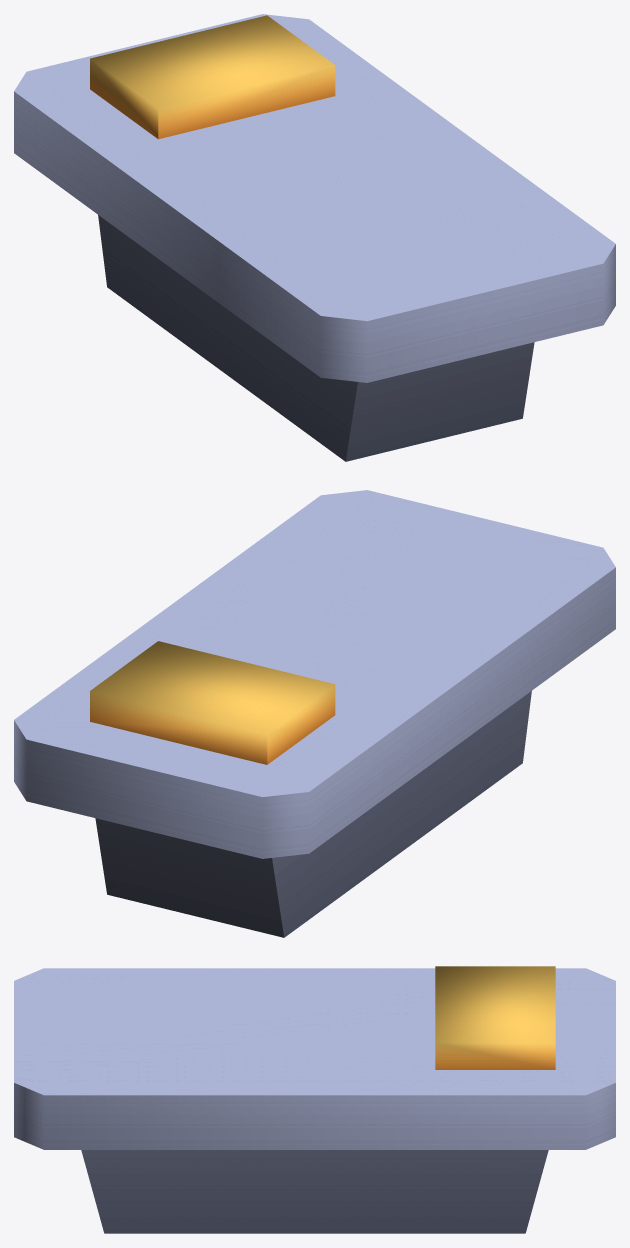
Rendered from gurney.glb.
The picture shows the model from 3 angles, top to bottom: view 1: azimuth 30°, elevation 25°; view 2: azimuth 150°, elevation 25°; view 3: azimuth 270°, elevation 25°; orthographic projection. The views are drawn at different scales.
Parts seen in each view (by area): view 1: bed-single; view 2: bed-single; view 3: bed-single.
Part boxes in pixels (x1,y1,x2,y2): bed-single: [14, 14, 615, 461]; bed-single: [14, 490, 615, 937]; bed-single: [14, 966, 615, 1233].
Size of the model in its own units: 0.5 by 0.35 by 1.
1 material, 1 textured.
